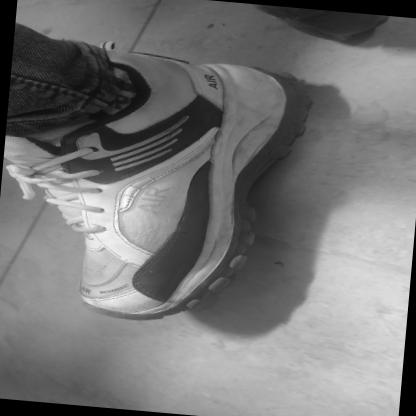ankle: (144, 97, 156, 108)
heel: (255, 73, 272, 81)
pinky: (82, 286, 94, 294)
right_foot: (1, 41, 319, 334)
toe: (152, 301, 163, 308)
